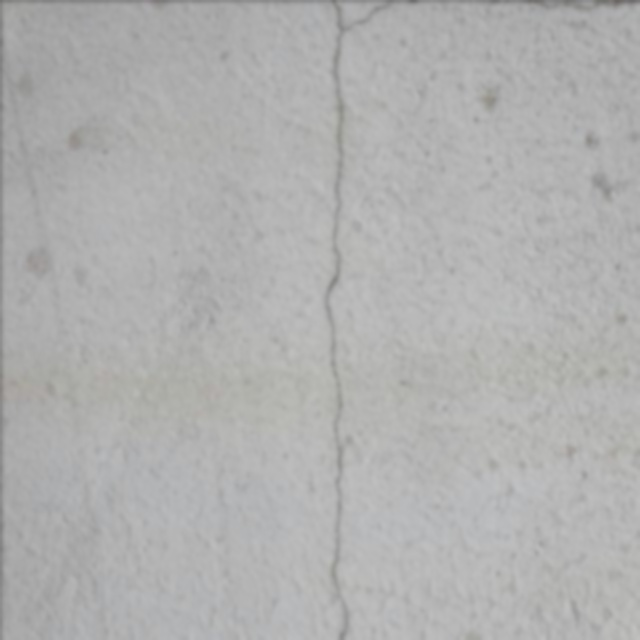SurfaceCrack: (270, 2, 397, 639)
